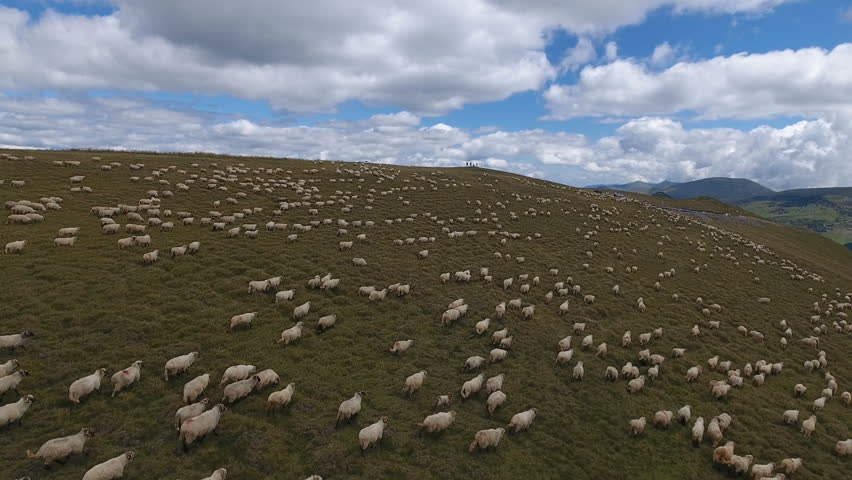sheep: (29, 425, 99, 471), (178, 401, 227, 451), (83, 449, 136, 480), (174, 392, 210, 435), (68, 366, 107, 404), (224, 371, 260, 407), (165, 349, 202, 384), (111, 358, 143, 395), (359, 413, 390, 450), (1, 392, 35, 425), (336, 387, 368, 420), (421, 408, 460, 433), (472, 426, 507, 452), (511, 407, 540, 435), (267, 381, 296, 407), (404, 368, 430, 396), (1, 329, 34, 351), (1, 367, 30, 392), (462, 373, 487, 400), (485, 390, 511, 415), (713, 440, 735, 469), (279, 320, 302, 345), (230, 309, 257, 330), (443, 303, 468, 325), (706, 415, 723, 447), (730, 453, 755, 473), (464, 354, 486, 375), (317, 312, 339, 333), (778, 458, 805, 475), (390, 338, 412, 358), (691, 417, 706, 446), (752, 461, 779, 477), (653, 409, 674, 429), (627, 373, 646, 395), (293, 300, 311, 323), (801, 414, 818, 438), (684, 364, 704, 384), (677, 403, 693, 427), (629, 414, 647, 435), (275, 288, 297, 305), (712, 383, 732, 401), (6, 238, 27, 254), (489, 347, 507, 365), (474, 317, 492, 335), (492, 327, 509, 346), (248, 279, 271, 293), (521, 304, 539, 321), (557, 334, 572, 354), (369, 288, 390, 302), (555, 348, 571, 366), (783, 408, 799, 426), (813, 395, 828, 414), (320, 277, 340, 291), (55, 236, 78, 248), (603, 365, 618, 383), (595, 341, 609, 360), (117, 236, 136, 249), (395, 282, 411, 297), (60, 226, 80, 238), (500, 334, 514, 351), (142, 250, 159, 264), (647, 361, 659, 380), (168, 245, 187, 257), (267, 276, 284, 289), (574, 360, 584, 382), (495, 300, 506, 318), (227, 227, 243, 239), (245, 229, 260, 240), (573, 322, 585, 332), (503, 278, 513, 289), (440, 272, 450, 282)
